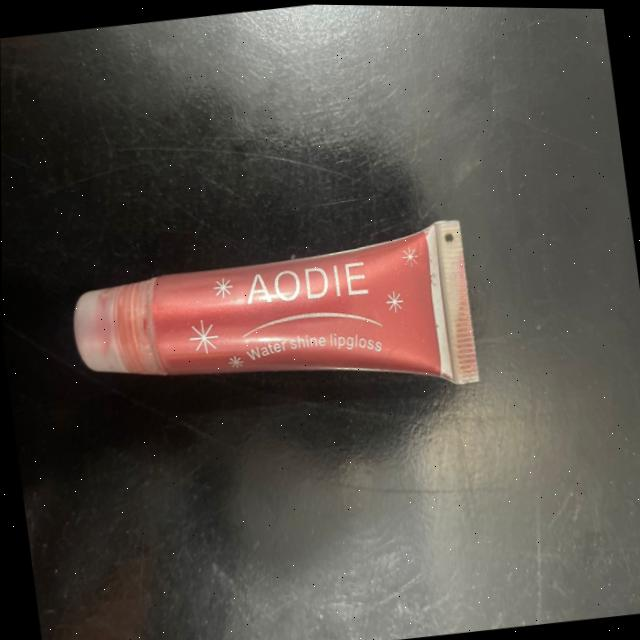Tint: (57, 189, 493, 421)
